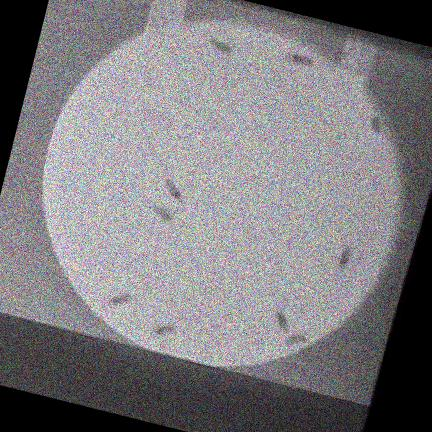fly: (209, 38, 232, 54), (275, 309, 290, 333), (165, 180, 182, 200), (337, 248, 351, 272), (287, 54, 313, 66), (153, 206, 172, 222), (153, 324, 176, 337), (285, 334, 307, 346), (109, 294, 131, 306), (370, 116, 382, 133)
